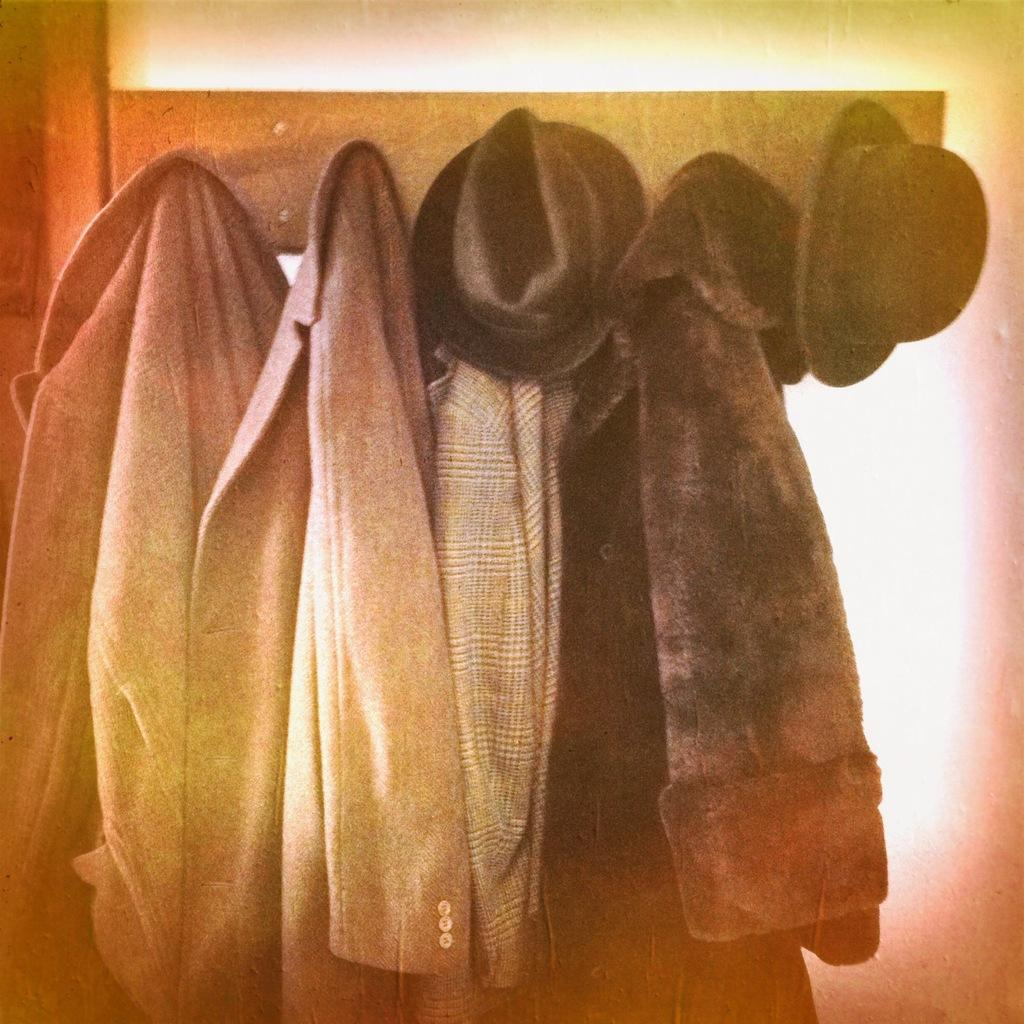Hat: (410, 104, 648, 382), (796, 94, 992, 388)
